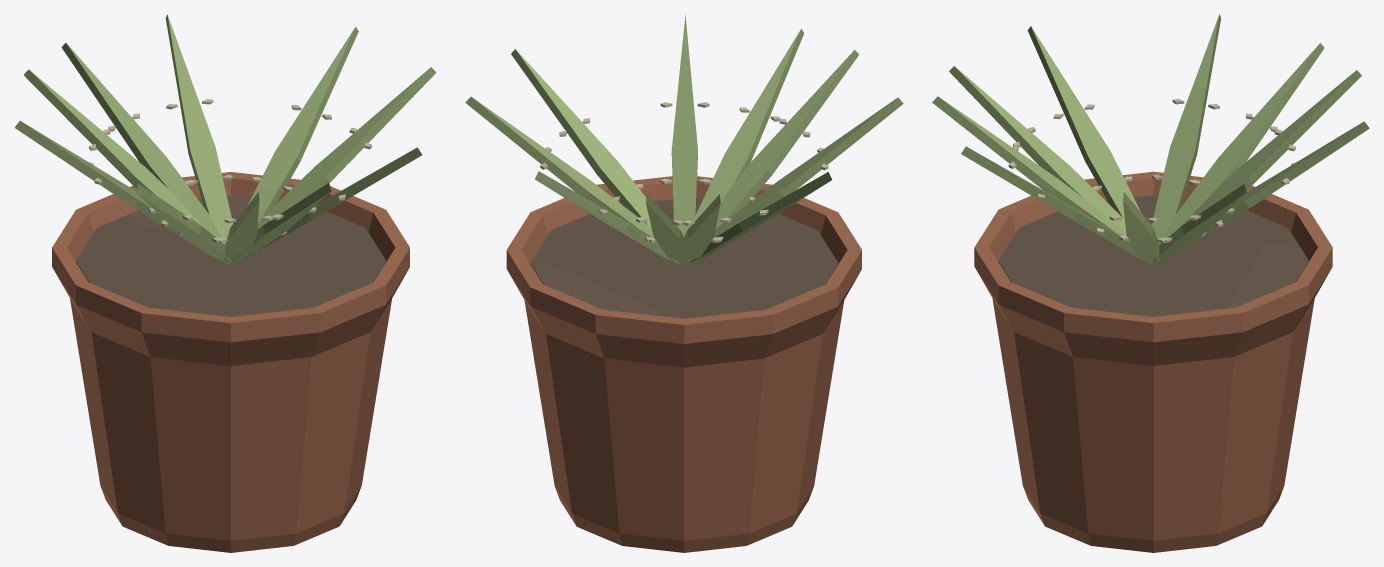
The model's file is yucca.glb.
The picture shows the model from 3 angles, left to right: view 1: azimuth 30°, elevation 25°; view 2: azimuth 150°, elevation 25°; view 3: azimuth 270°, elevation 25°; orthographic projection.
Parts seen in each view (by area): view 1: yucca/review-terra-vessel, yucca/review-rooted-soil, yucca/leaf-026, yucca/leaf-011, yucca/leaf-001, yucca/leaf-036, yucca/leaf-041, yucca/leaf-016, yucca/leaf-031, yucca/leaf-021, yucca/leaf-046, yucca/leaf-006; view 2: yucca/review-terra-vessel, yucca/review-rooted-soil, yucca/leaf-006, yucca/leaf-036, yucca/leaf-021, yucca/leaf-046, yucca/leaf-011, yucca/leaf-031, yucca/leaf-016, yucca/leaf-026, yucca/leaf-001, yucca/leaf-041; view 3: yucca/review-terra-vessel, yucca/review-rooted-soil, yucca/leaf-016, yucca/leaf-031, yucca/leaf-041, yucca/leaf-006, yucca/leaf-001, yucca/leaf-046, yucca/leaf-026, yucca/leaf-021, yucca/leaf-011, yucca/leaf-036.
Part boxes in pixels (bbox=[...]): yucca/review-terra-vessel: bbox=[52, 172, 409, 552]; yucca/review-rooted-soil: bbox=[76, 195, 386, 316]; yucca/leaf-026: bbox=[165, 14, 232, 243]; yucca/leaf-011: bbox=[247, 27, 358, 222]; yucca/leaf-001: bbox=[61, 42, 224, 244]; yucca/leaf-036: bbox=[257, 67, 436, 229]; yucca/leaf-041: bbox=[24, 69, 207, 230]; yucca/leaf-016: bbox=[14, 121, 210, 255]; yucca/leaf-031: bbox=[136, 184, 231, 263]; yucca/leaf-021: bbox=[237, 147, 421, 262]; yucca/leaf-046: bbox=[231, 183, 331, 263]; yucca/leaf-006: bbox=[223, 192, 259, 263]; yucca/review-terra-vessel: bbox=[506, 176, 861, 552]; yucca/review-rooted-soil: bbox=[530, 199, 838, 318]; yucca/leaf-006: bbox=[715, 50, 858, 229]; yucca/leaf-036: bbox=[511, 49, 651, 227]; yucca/leaf-021: bbox=[671, 14, 697, 236]; yucca/leaf-046: bbox=[694, 29, 804, 221]; yucca/leaf-011: bbox=[465, 96, 653, 237]; yucca/leaf-031: bbox=[714, 97, 903, 237]; yucca/leaf-016: bbox=[687, 172, 831, 265]; yucca/leaf-026: bbox=[535, 171, 680, 265]; yucca/leaf-001: bbox=[645, 194, 690, 266]; yucca/leaf-041: bbox=[678, 194, 720, 266]; yucca/review-terra-vessel: bbox=[974, 171, 1332, 552]; yucca/review-rooted-soil: bbox=[998, 195, 1308, 316]; yucca/leaf-016: bbox=[1151, 14, 1221, 244]; yucca/leaf-031: bbox=[1027, 26, 1140, 219]; yucca/leaf-041: bbox=[1159, 43, 1324, 244]; yucca/leaf-006: bbox=[949, 66, 1125, 232]; yucca/leaf-001: bbox=[1182, 70, 1361, 225]; yucca/leaf-046: bbox=[932, 96, 1135, 256]; yucca/leaf-026: bbox=[1174, 121, 1369, 255]; yucca/leaf-021: bbox=[961, 146, 1147, 262]; yucca/leaf-011: bbox=[1153, 184, 1246, 263]; yucca/leaf-036: bbox=[1123, 192, 1160, 263].
Size of the model in its own units: 0.3248 by 0.3317 by 0.3299.
Materials: 4 (4 with a texture image).
